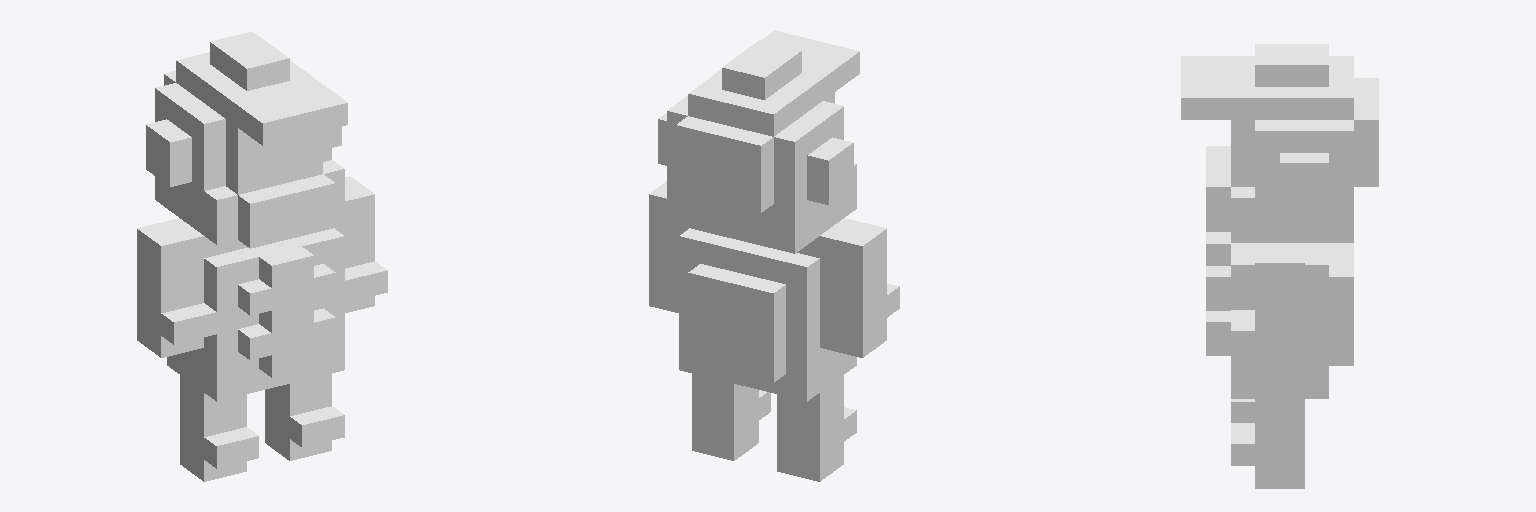
Rendered from Enemy.obj.
The picture shows the model from 3 angles: view 1: azimuth 30°, elevation 25°; view 2: azimuth 150°, elevation 25°; view 3: azimuth 270°, elevation 25°; orthographic projection.
Parts seen in each view (by area): view 1: object 1; view 2: object 1; view 3: object 1.
Boxes of the visible parts, x1=… form: object 1: x1=137, y1=31, x2=387, y2=481; object 1: x1=649, y1=30, x2=899, y2=481; object 1: x1=1181, y1=44, x2=1378, y2=488.
Size of the model in its own units: 1 by 1.8 by 0.8.